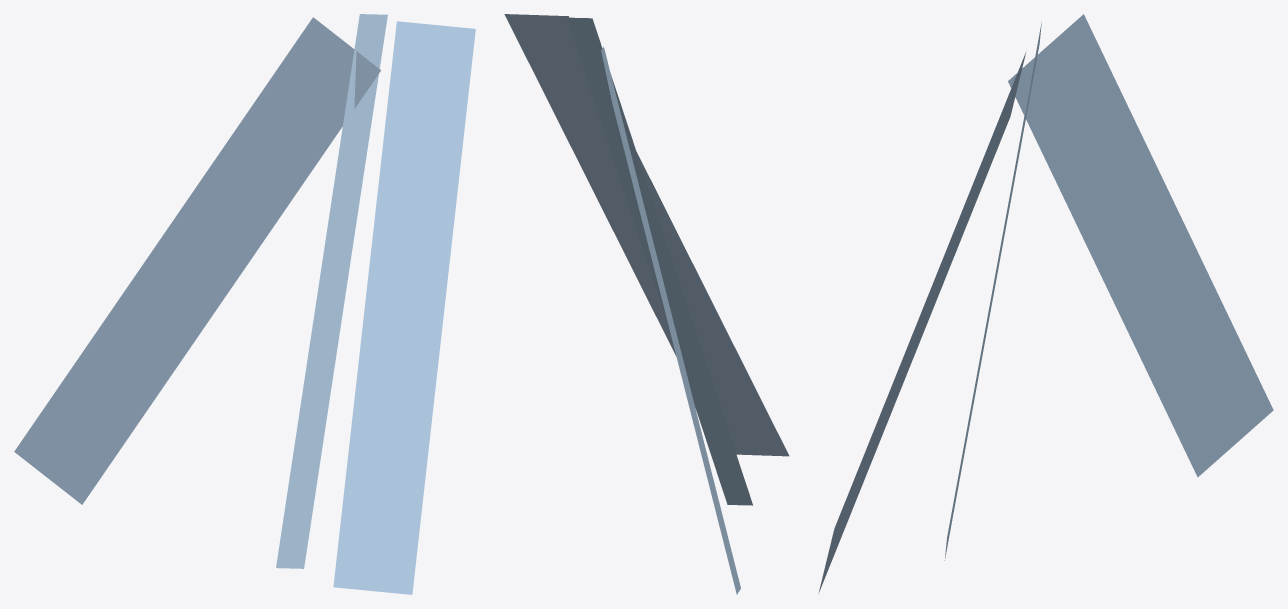
File: ytlds_Object (39).fbx
3 views of the same model, side by side, from view 1: azimuth 30°, elevation 25°; view 2: azimuth 150°, elevation 25°; view 3: azimuth 270°, elevation 25° (orthographic). The views are drawn at different scales.
Parts seen in each view (by area): view 1: Object39; view 2: Object39; view 3: Object39.
Boxes of the visible parts, x1,y1,x2,y2 form: Object39: (14, 14, 475, 594); Object39: (504, 14, 789, 594); Object39: (818, 14, 1273, 593).
Bounding box in the file's own units: 337 × 461 × 318.
